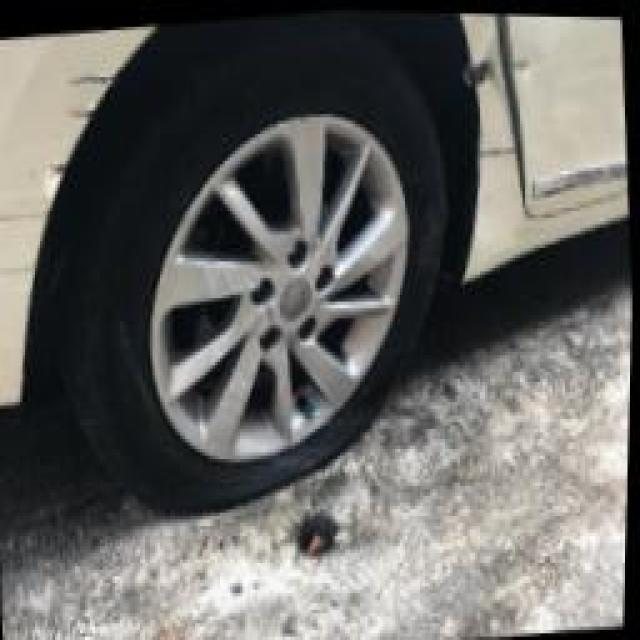Bumper: (0, 34, 129, 305)
Fender: (465, 10, 522, 202)
